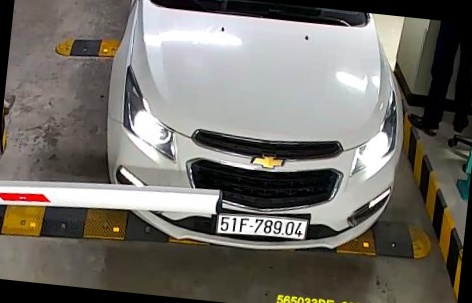plate: (207, 210, 311, 245)
